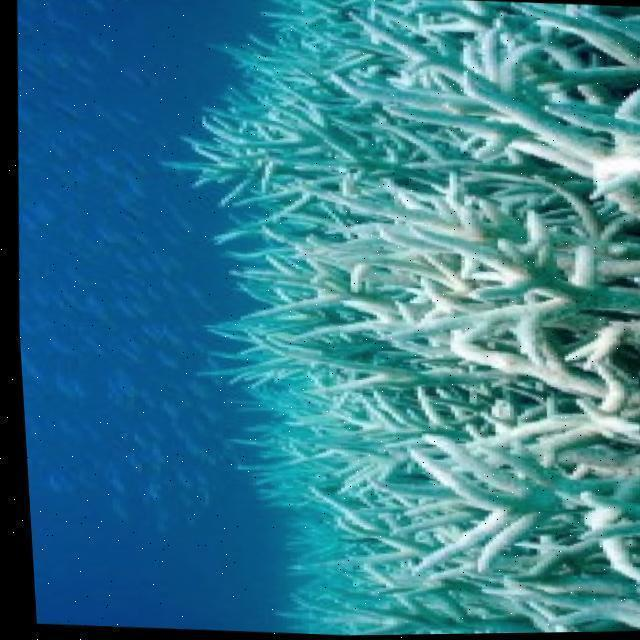Bleached Coral: (196, 0, 640, 631)
